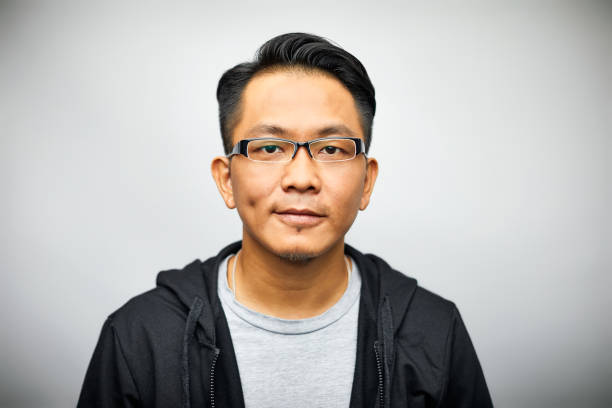person: (210, 30, 380, 272)
